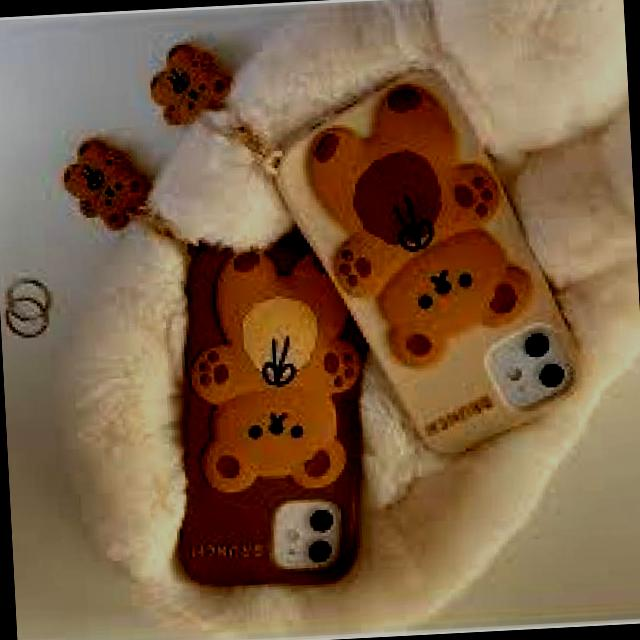lens_back: (535, 359, 566, 391), (304, 536, 334, 566), (522, 331, 550, 358), (307, 506, 334, 534)
phone: (269, 64, 586, 458), (176, 242, 359, 596)
